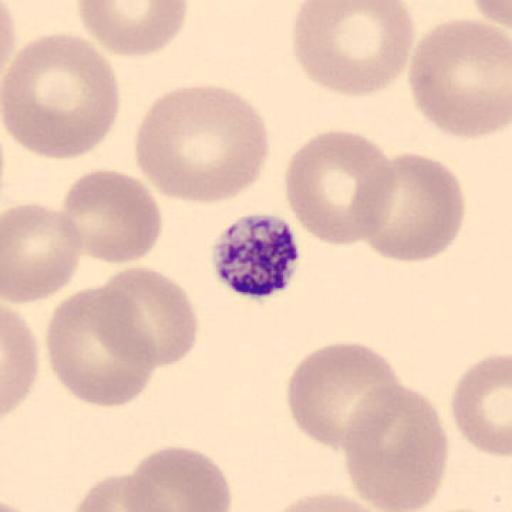Platelet: (208, 212, 303, 300)
RBC: (134, 81, 271, 205), (1, 32, 121, 162), (341, 381, 450, 512), (45, 283, 158, 408), (282, 128, 399, 248), (407, 16, 512, 140), (285, 341, 401, 452), (290, 0, 416, 97), (362, 150, 466, 264), (100, 264, 200, 368), (61, 168, 164, 265), (2, 201, 85, 305), (128, 444, 233, 512), (76, 0, 190, 59), (451, 352, 512, 458), (70, 471, 180, 512), (1, 303, 40, 418), (265, 491, 386, 512), (472, 0, 512, 38), (1, 0, 19, 75), (471, 0, 512, 25)
